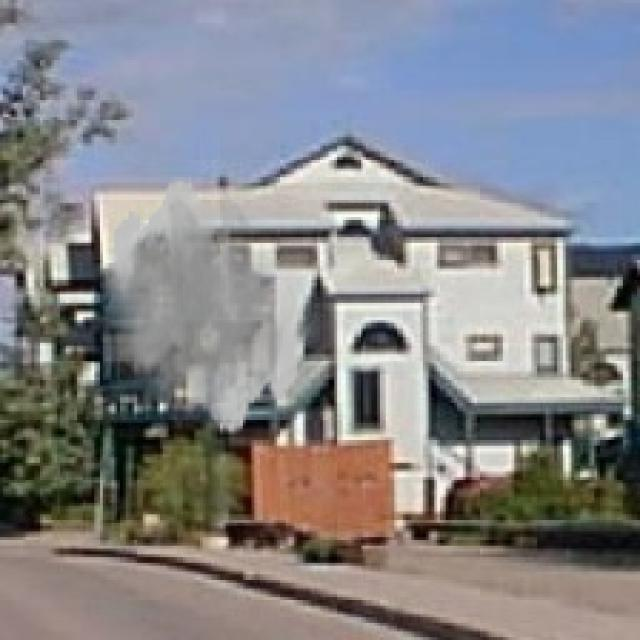smoke: (100, 174, 311, 437)
